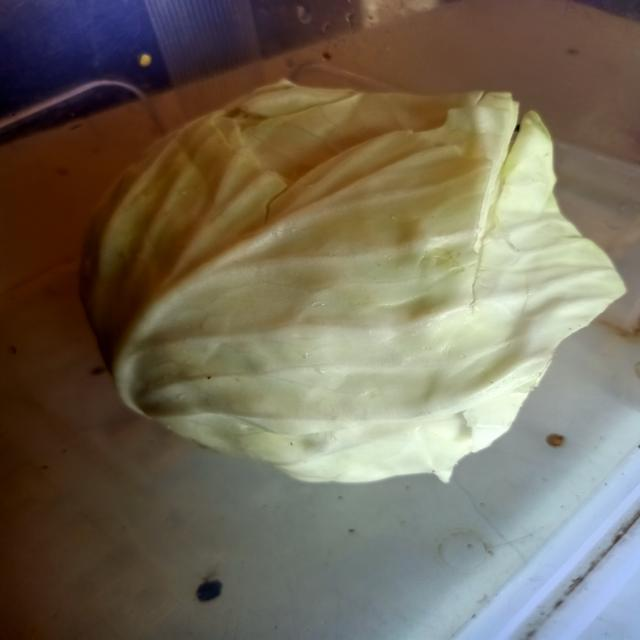Cabbage: (60, 58, 640, 501)
